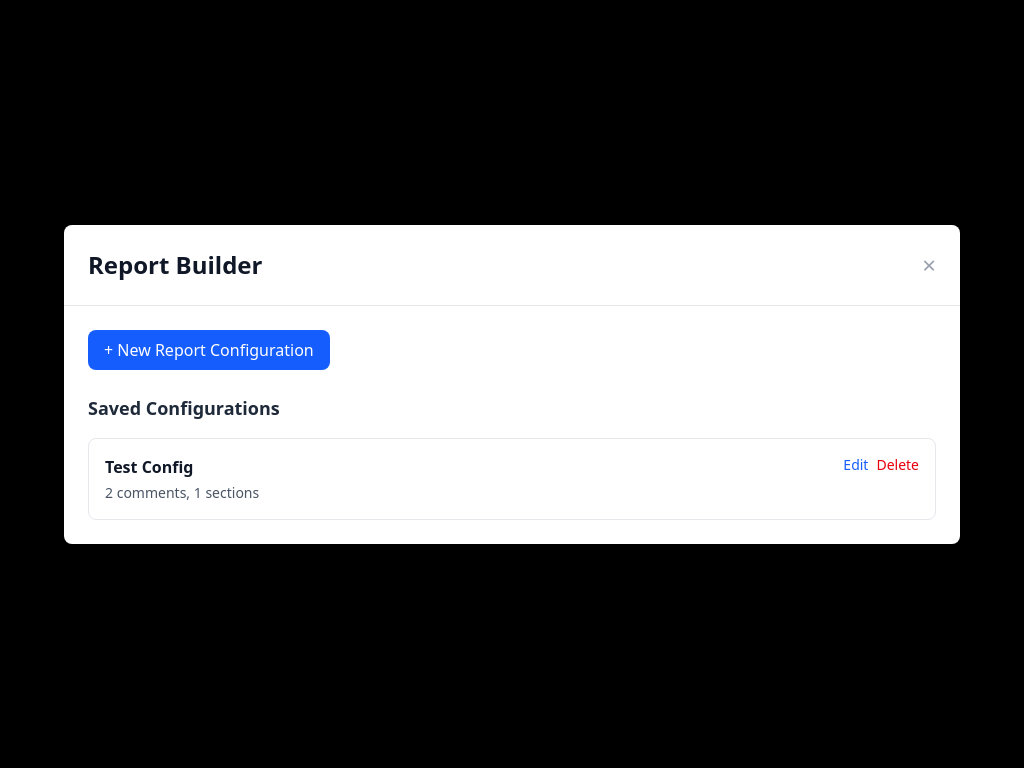
Scenario: ReportBuilder › should open new configuration editor when clicking new button
Click the button "+ New Report Configuration": (209, 350) [88,330,330,370]
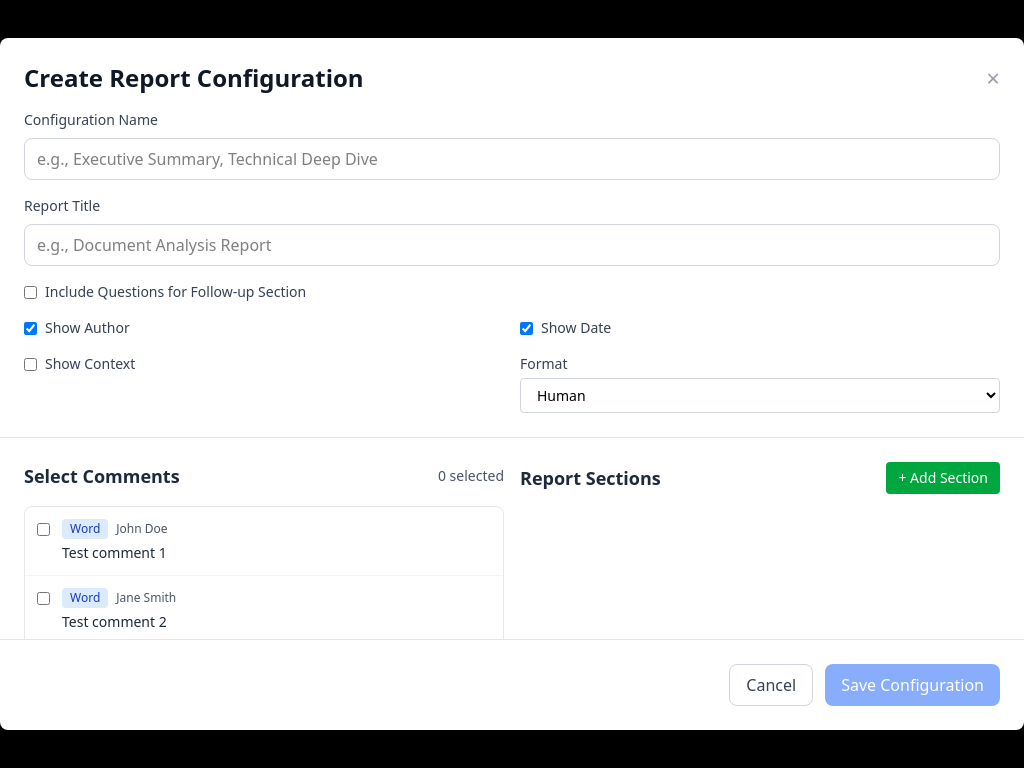
Now the heading "Create Report Configuration" is shown, box [24,62,364,94]
Now the field with placeholder "e.g., Executive Summary, Technical Deep Dive" is shown, box [24,138,1000,180]
